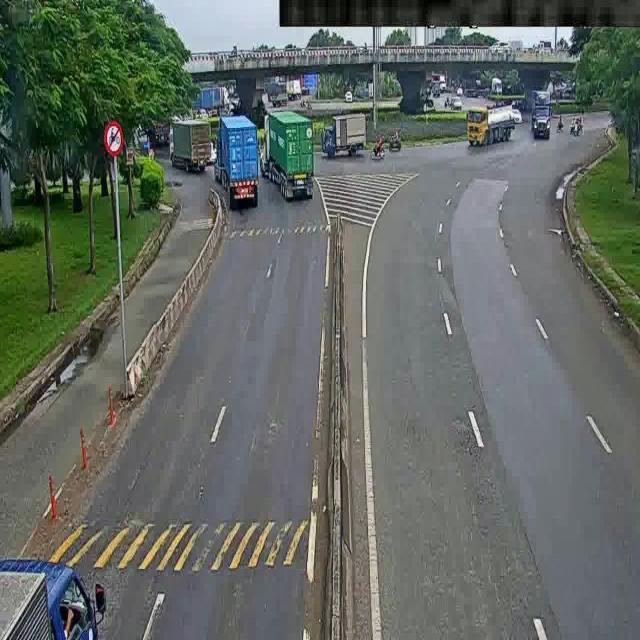motorbike: (369, 126, 391, 163), (384, 130, 403, 150), (572, 112, 584, 136), (443, 97, 465, 110)
truck: (4, 538, 101, 640), (212, 111, 266, 219), (265, 117, 324, 210), (459, 96, 517, 151), (165, 117, 212, 173), (315, 111, 369, 156), (527, 82, 558, 147), (183, 85, 238, 110), (268, 77, 289, 109)
